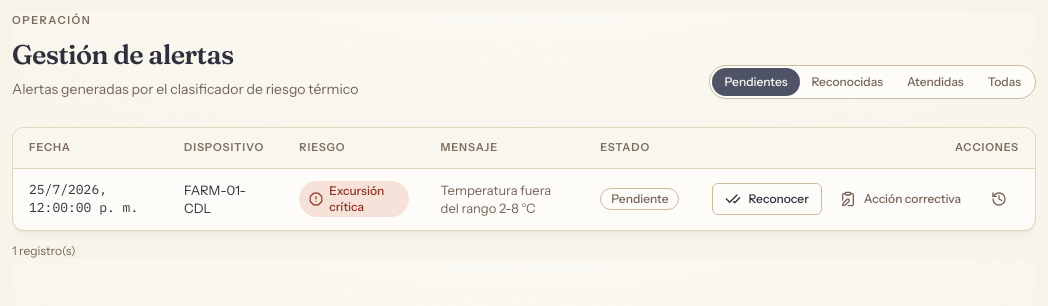
Test: AlertasPage (RF-09, RF-10, HU-20/21/23/27/41) › avisa cuando otro usuario ya reconoció la alerta (HU-27 Escenario 2)
What coordinates should you click on to do the following:
click the button "Reconocer"
I would click on:
 (767, 199)
Its box is [712,183,822,215].
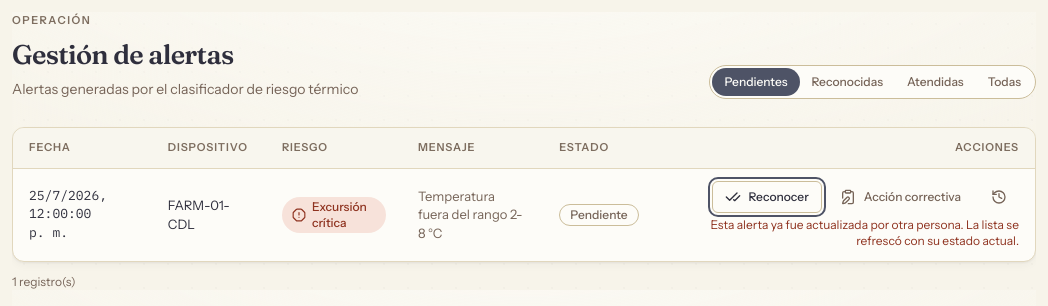
Check: the message shows "actualizada por otra persona", box [710,216,1019,248]
